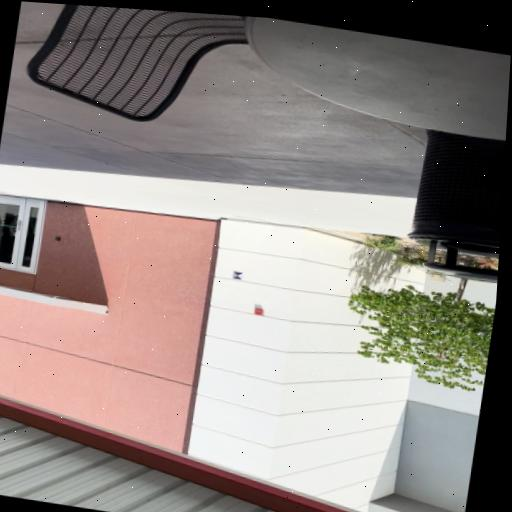target6: (232, 272, 243, 280)
